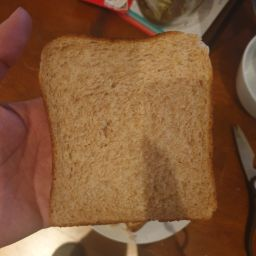Breads: (32, 26, 230, 232)
